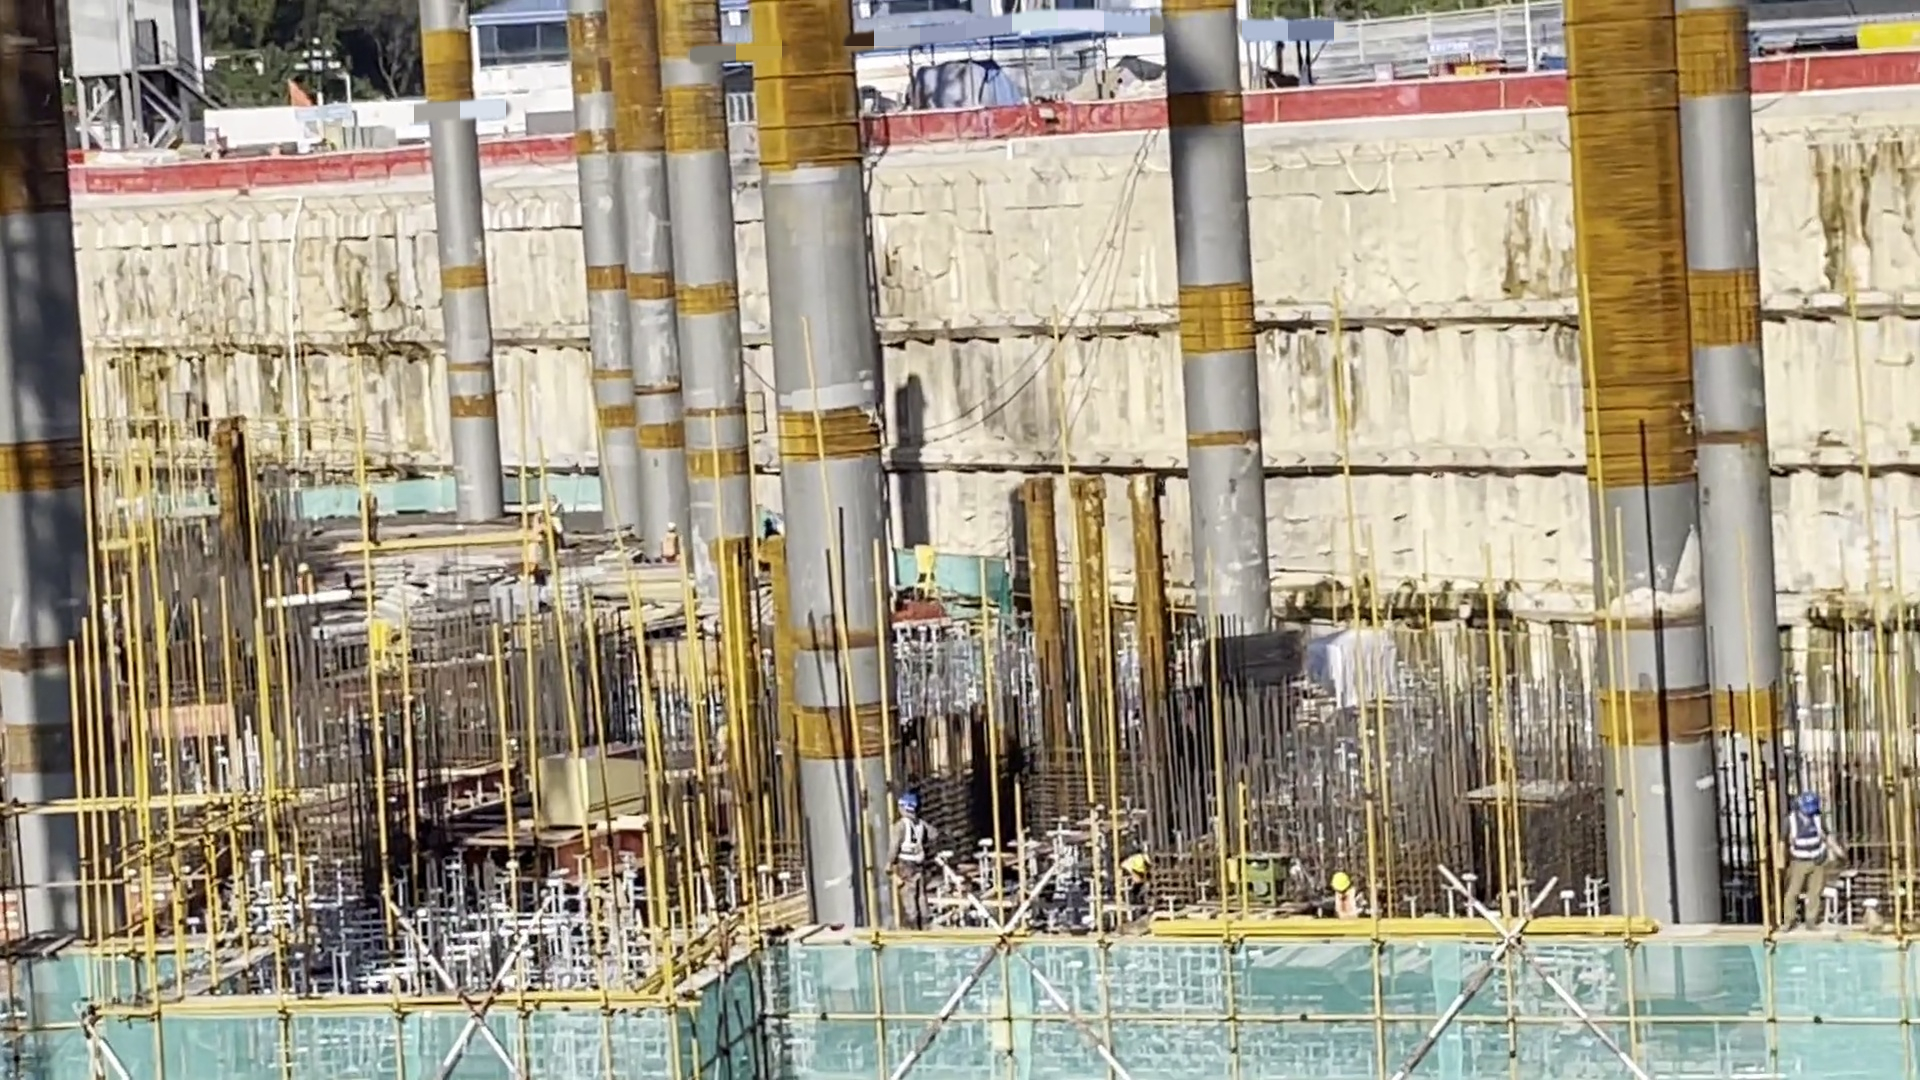helmet: (1331, 872, 1350, 890), (898, 795, 917, 812)
person: (1783, 793, 1835, 926), (887, 800, 937, 927), (1327, 876, 1365, 916)
vest: (901, 824, 924, 864)
